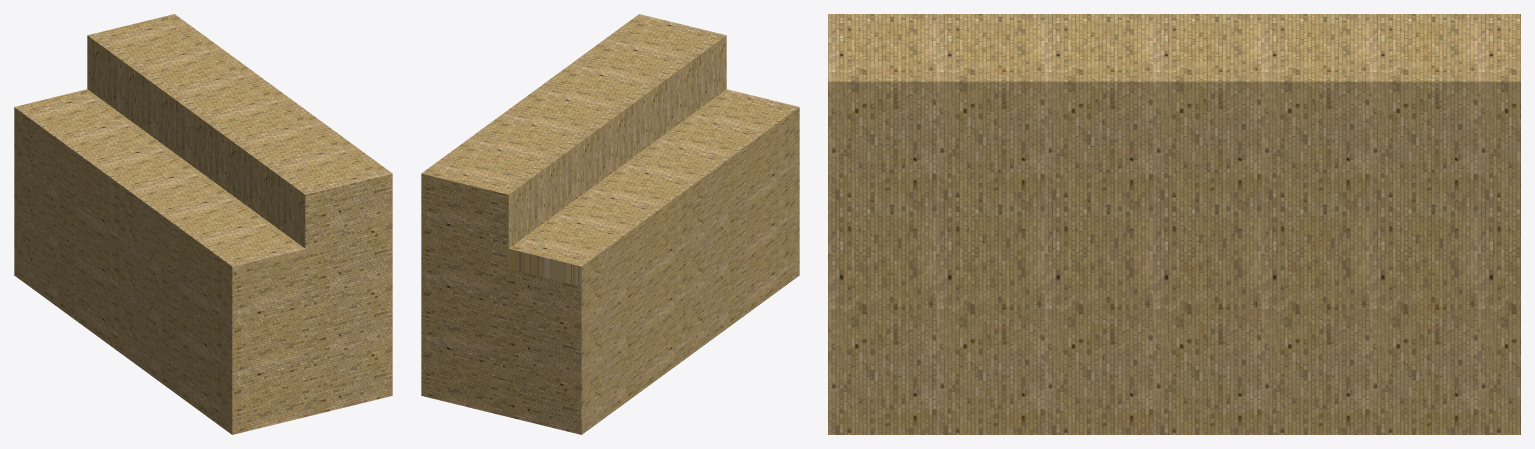
Rendered from buildingRight.gltf.
3 renders of one model, left to right at view 1: azimuth 30°, elevation 25°; view 2: azimuth 150°, elevation 25°; view 3: azimuth 270°, elevation 25°, orthographic. The views are drawn at different scales.
Parts seen in each view (by area): view 1: Building_Right_Low; view 2: Building_Right_Low; view 3: Building_Right_Low.
Boxes of the visible parts, left/top/right/bottom form: Building_Right_Low: left=14, top=14, right=392, bottom=434; Building_Right_Low: left=421, top=14, right=799, bottom=434; Building_Right_Low: left=828, top=14, right=1520, bottom=434.
Bounding box in the file's own units: 34 × 45 × 80.
Materials: 1 (1 with a texture image).
